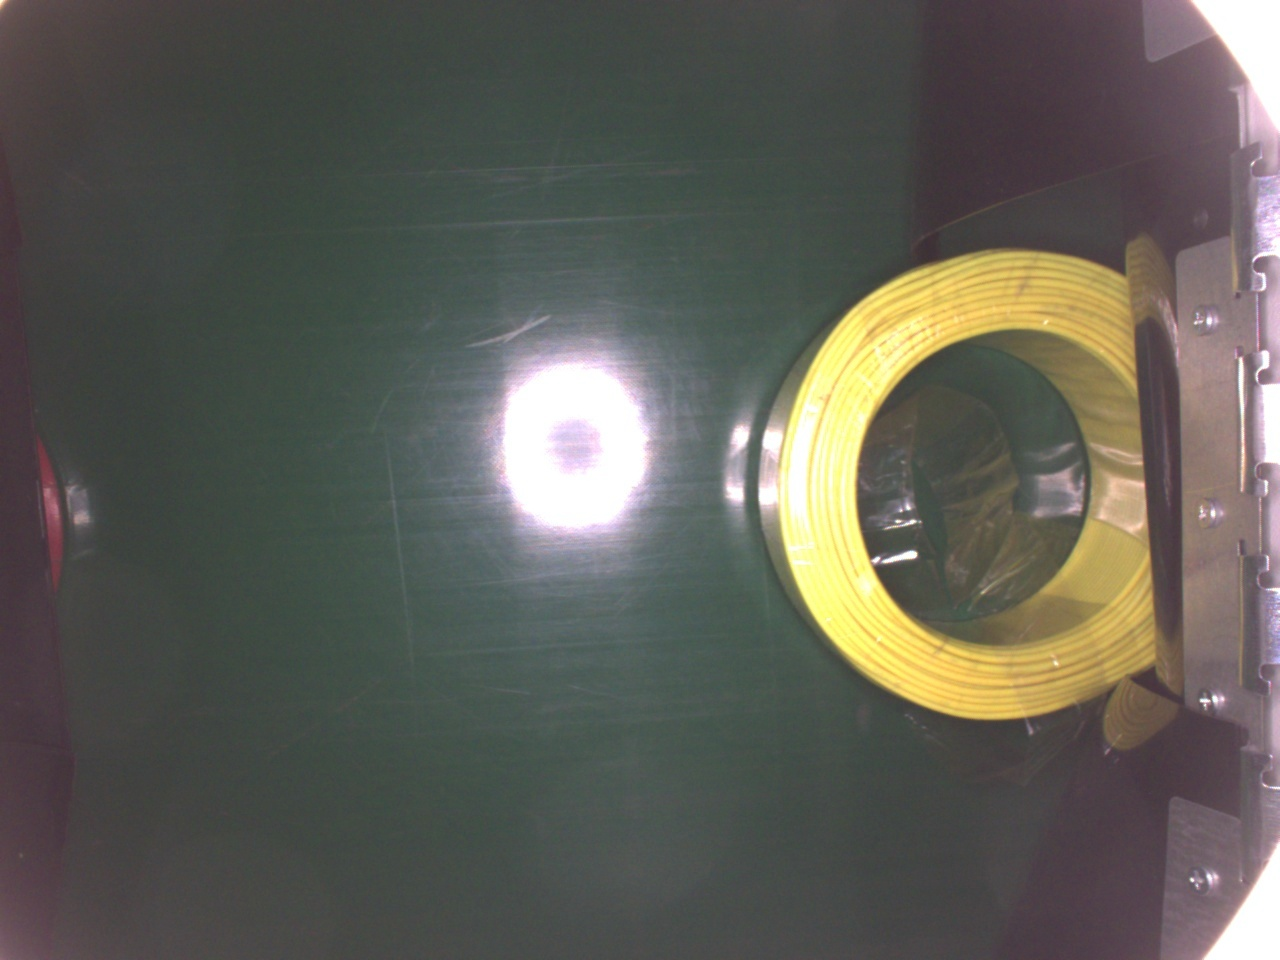yellow: (751, 245, 1155, 718)
